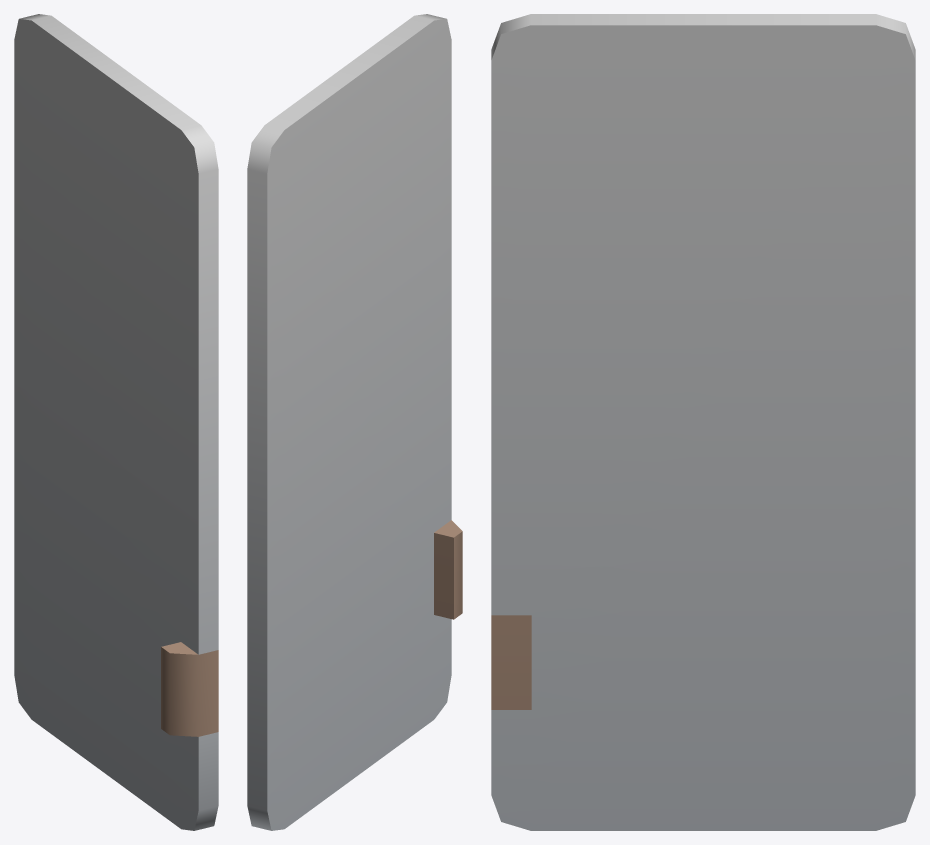
The model's file is (%no-merge) (%open-left) 5_0.glb.
3 renders of one model, left to right at view 1: azimuth 30°, elevation 25°; view 2: azimuth 150°, elevation 25°; view 3: azimuth 270°, elevation 25°, orthographic. The views are drawn at different scales.
Visible parts, largest first — view 1: (%no-merge) (%open-left) 5(Clone); view 2: (%no-merge) (%open-left) 5(Clone); view 3: (%no-merge) (%open-left) 5(Clone).
Part boxes in pixels (box(x1,y1,x2,y2)): (%no-merge) (%open-left) 5(Clone): box(14, 14, 218, 830); (%no-merge) (%open-left) 5(Clone): box(247, 14, 462, 830); (%no-merge) (%open-left) 5(Clone): box(491, 14, 915, 830).
Size of the model in its own units: 0.05 by 0.8375 by 0.4.
